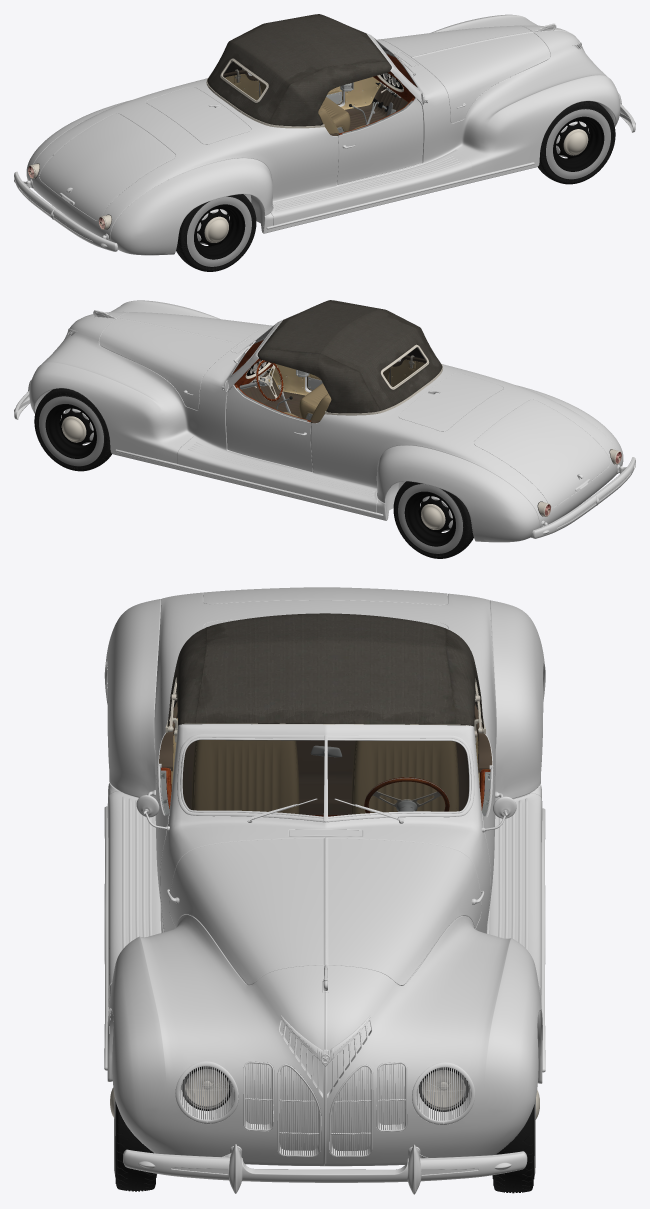
The model's file is zis.glb.
The picture shows the model from 3 angles, top to bottom: view 1: azimuth 30°, elevation 25°; view 2: azimuth 150°, elevation 25°; view 3: azimuth 270°, elevation 25°; orthographic projection. The views are drawn at different scales.
Parts seen in each view (by area): view 1: body, spin_FR, spin_RR; view 2: body, spin_FL, spin_RL; view 3: body, spin_FR, spin_FL.
Part boxes in pixels (left/top/right/bottom): body: left=14, top=14, right=635, bottom=255; spin_FR: left=538, top=101, right=615, bottom=184; spin_RR: left=176, top=194, right=256, bottom=271; body: left=14, top=300, right=635, bottom=542; spin_FL: left=34, top=388, right=111, bottom=471; spin_RL: left=393, top=481, right=473, bottom=558; body: left=104, top=587, right=545, bottom=1194; spin_FR: left=110, top=1088, right=156, bottom=1191; spin_FL: left=492, top=1090, right=539, bottom=1193.
Bounding box in the file's own units: 5.4 × 1.53 × 1.88.
Materials: 15 (8 with a texture image).
